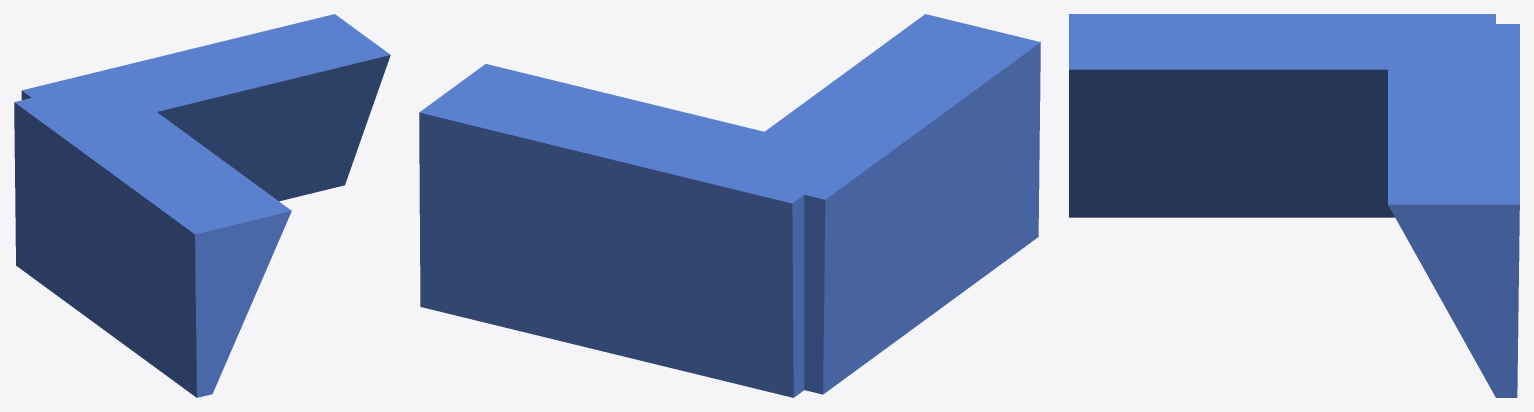
Rendered from TopPadded_Incline_Curve_Square_Inner_Collision.fbx.
The picture shows the model from 3 angles, left to right: view 1: azimuth 30°, elevation 25°; view 2: azimuth 150°, elevation 25°; view 3: azimuth 270°, elevation 25°; orthographic projection. The views are drawn at different scales.
Parts seen in each view (by area): view 1: TopPadded_Incline_Curve_Square_Inner_Collision; view 2: TopPadded_Incline_Curve_Square_Inner_Collision; view 3: TopPadded_Incline_Curve_Square_Inner_Collision.
Part boxes in pixels (bbox=[...]): TopPadded_Incline_Curve_Square_Inner_Collision: bbox=[14, 14, 390, 397]; TopPadded_Incline_Curve_Square_Inner_Collision: bbox=[419, 14, 1040, 397]; TopPadded_Incline_Curve_Square_Inner_Collision: bbox=[1069, 14, 1519, 397].
Bounding box in the file's own units: 422 × 200 × 422.
